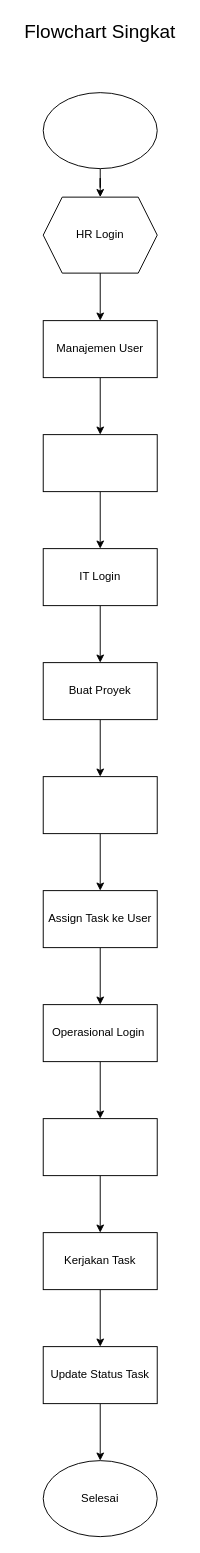
The diagram is 200 pixels wide and 1553 high, and some of its shapes have lost their labels. The centre of each missing label's shape, as x and y in pixels:
Lihat Task: point (99, 1147)
Start: point (99, 130)
Tambah Task: point (99, 805)
Tambah User: point (99, 463)
